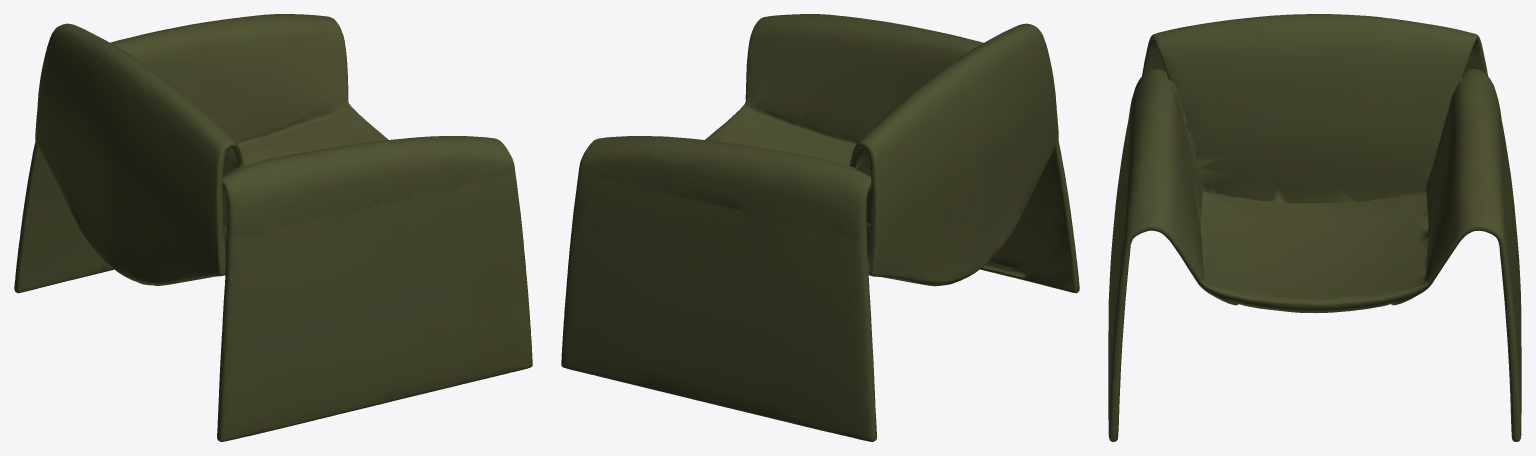
The model's file is folded-olive-chair.glb.
3 views of the same model, side by side, from view 1: azimuth 30°, elevation 25°; view 2: azimuth 150°, elevation 25°; view 3: azimuth 270°, elevation 25° (orthographic).
Parts seen in each view (by area): view 1: world; view 2: world; view 3: world.
Part boxes in pixels (x1,y1,x2,y2): world: (14,14,532,441); world: (561,14,1079,441); world: (1108,14,1521,441).
Size of the model in its own units: 0.8711 by 0.7719 by 1.
1 material, 1 textured.
